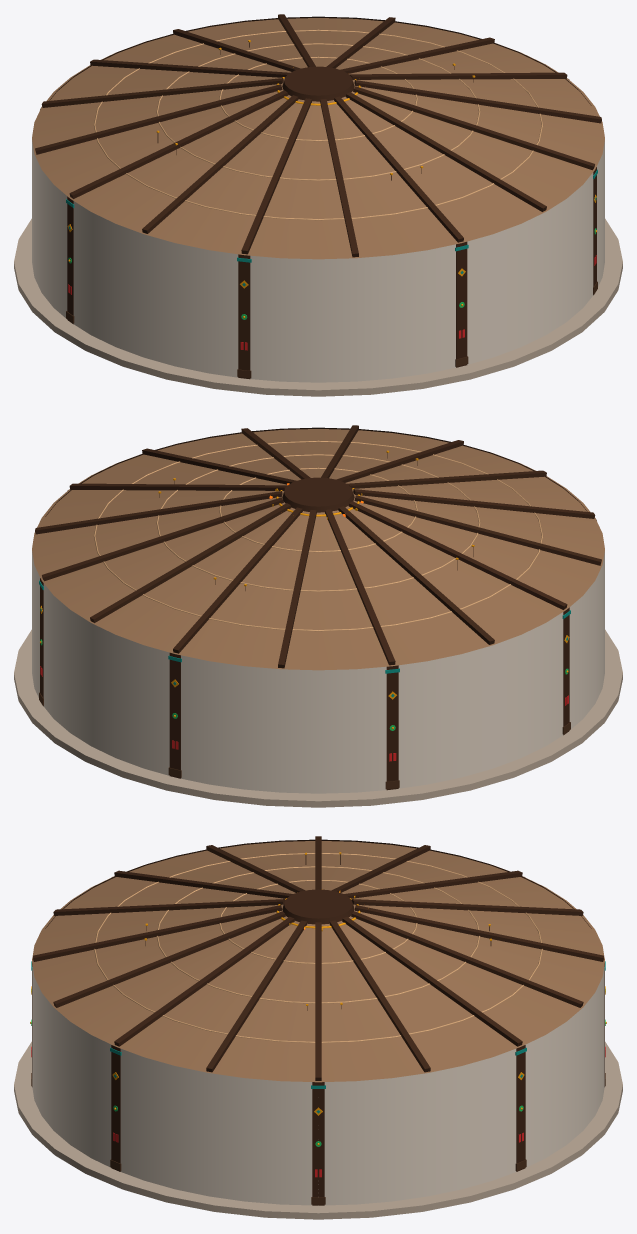
The model's file is museo_wixarika_base.glb.
The picture shows the model from 3 angles, top to bottom: view 1: azimuth 30°, elevation 25°; view 2: azimuth 150°, elevation 25°; view 3: azimuth 270°, elevation 25°; orthographic projection.
Visible parts, largest first — view 1: superficie_domo_conico, muro_cilindrico, suelo_principal, anillo_oculo, viga_radial_3, viga_radial_12, viga_radial_13, viga_radial_2, viga_radial_4, estela_pilastra_8, viga_radial_11, aro_otate_techo_1 (+14 smaller); view 2: superficie_domo_conico, muro_cilindrico, suelo_principal, anillo_oculo, viga_radial_7, viga_radial_14, viga_radial_13, viga_radial_8, viga_radial_6, estela_pilastra_6, viga_radial_15, aro_otate_techo_1 (+14 smaller); view 3: superficie_domo_conico, muro_cilindrico, suelo_principal, anillo_oculo, viga_radial_2, viga_radial_8, viga_radial_1, viga_radial_9, viga_radial_7, viga_radial_3, estela_pilastra_3, aro_otate_techo_1 (+14 smaller).
Part boxes in pixels (left/top/right/bottom): superficie_domo_conico: left=32, top=18, right=604, bottom=259; muro_cilindrico: left=32, top=140, right=604, bottom=382; suelo_principal: left=14, top=218, right=622, bottom=396; anillo_oculo: left=282, top=66, right=354, bottom=101; viga_radial_3: left=353, top=86, right=594, bottom=170; viga_radial_12: left=35, top=84, right=282, bottom=154; viga_radial_13: left=69, top=90, right=288, bottom=198; viga_radial_2: left=345, top=92, right=546, bottom=211; viga_radial_4: left=354, top=80, right=601, bottom=123; estela_pilastra_8: left=237, top=254, right=251, bottom=379; viga_radial_11: left=41, top=78, right=283, bottom=107; aro_otate_techo_1: left=93, top=29, right=543, bottom=220; superficie_domo_conico: left=32, top=429, right=604, bottom=670; muro_cilindrico: left=32, top=551, right=604, bottom=793; suelo_principal: left=14, top=629, right=622, bottom=807; anillo_oculo: left=282, top=477, right=354, bottom=512; viga_radial_7: left=42, top=497, right=283, bottom=581; viga_radial_14: left=354, top=495, right=601, bottom=565; viga_radial_13: left=348, top=501, right=567, bottom=609; viga_radial_8: left=90, top=503, right=291, bottom=622; viga_radial_6: left=35, top=491, right=282, bottom=534; estela_pilastra_6: left=385, top=665, right=399, bottom=790; viga_radial_15: left=353, top=489, right=595, bottom=518; aro_otate_techo_1: left=93, top=440, right=543, bottom=631; superficie_domo_conico: left=32, top=841, right=604, bottom=1082; muro_cilindrico: left=32, top=965, right=604, bottom=1205; suelo_principal: left=14, top=1041, right=622, bottom=1219; anillo_oculo: left=282, top=889, right=354, bottom=924; viga_radial_2: left=53, top=911, right=285, bottom=1007; viga_radial_8: left=351, top=911, right=583, bottom=1007; viga_radial_1: left=33, top=905, right=281, bottom=961; viga_radial_9: left=355, top=905, right=603, bottom=961; viga_radial_7: left=342, top=916, right=522, bottom=1046; viga_radial_3: left=114, top=916, right=294, bottom=1046; estela_pilastra_3: left=311, top=1082, right=325, bottom=1205; aro_otate_techo_1: left=94, top=853, right=542, bottom=1042.
Bounding box in the file's own units: 17 × 6.16 × 17.
